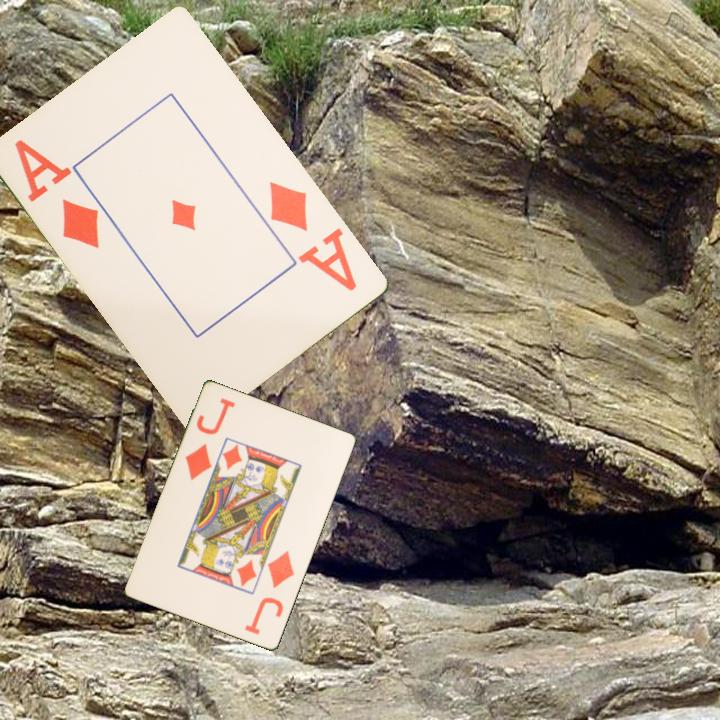Ad: (266, 178, 361, 295), (11, 135, 104, 252)
Jd: (181, 395, 239, 484), (241, 547, 297, 638)
